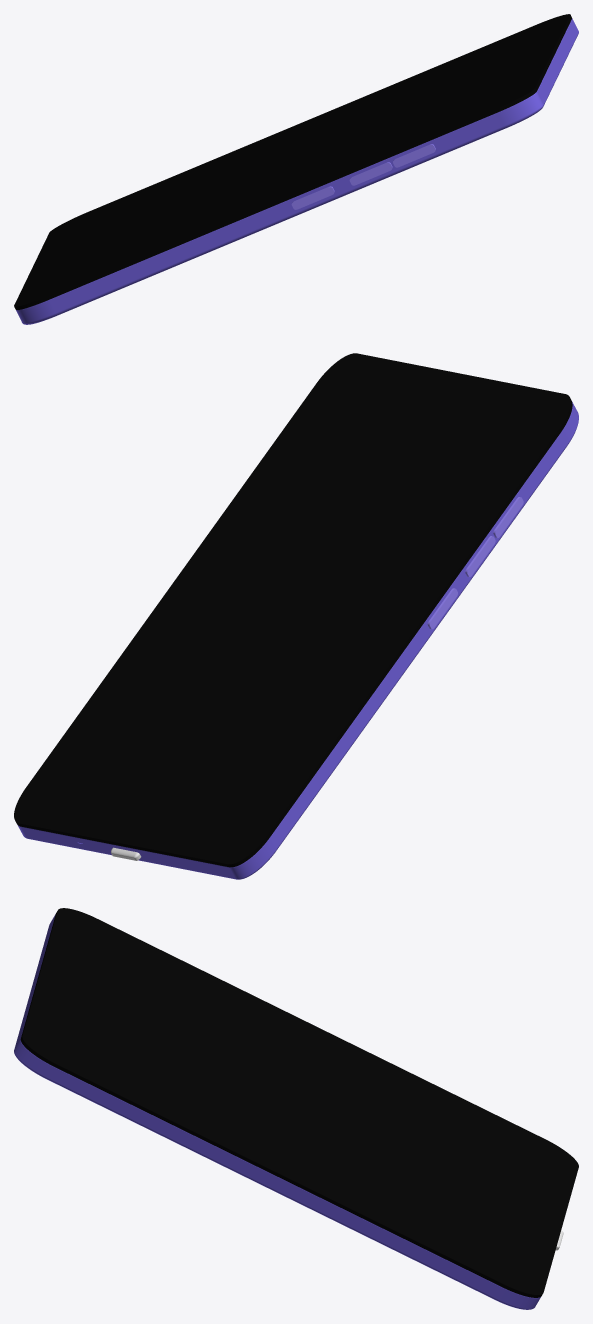
Rendered from покохзпро2.fbx.
3 views of the same model, one above another, from view 1: azimuth 90°, elevation 25°; view 2: azimuth 150°, elevation 25°; view 3: azimuth 270°, elevation 25° (orthographic). The views are drawn at different scales.
Parts seen in each view (by area): view 1: Плоскость, Плоскость.002, Куб.003, Куб.001, Куб.002; view 2: Плоскость, Плоскость.002; view 3: Плоскость, Плоскость.002.
Part boxes in pixels (left/top/right/bottom): Плоскость: left=14, top=14, right=572, bottom=309; Плоскость.002: left=16, top=18, right=578, bottom=324; Куб.003: left=393, top=144, right=435, bottom=167; Куб.001: left=291, top=186, right=334, bottom=209; Куб.002: left=349, top=162, right=392, bottom=185; Плоскость: left=14, top=353, right=572, bottom=867; Плоскость.002: left=17, top=401, right=578, bottom=879; Плоскость: left=20, top=908, right=578, bottom=1297; Плоскость.002: left=14, top=914, right=540, bottom=1309.
Size of the model in its own units: 263 by 257 by 470.
